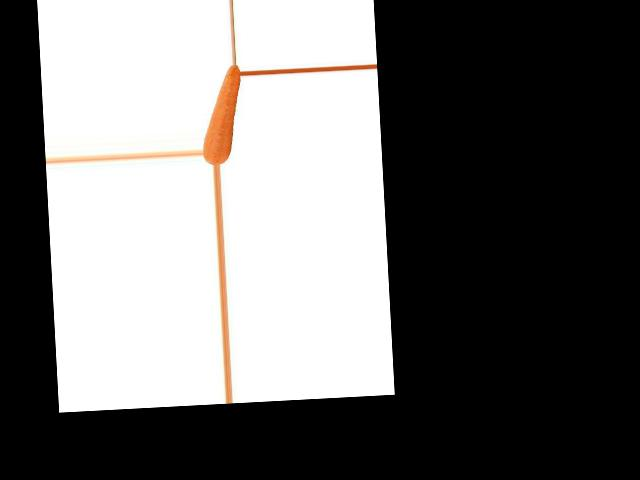carrot: (198, 64, 245, 164)
